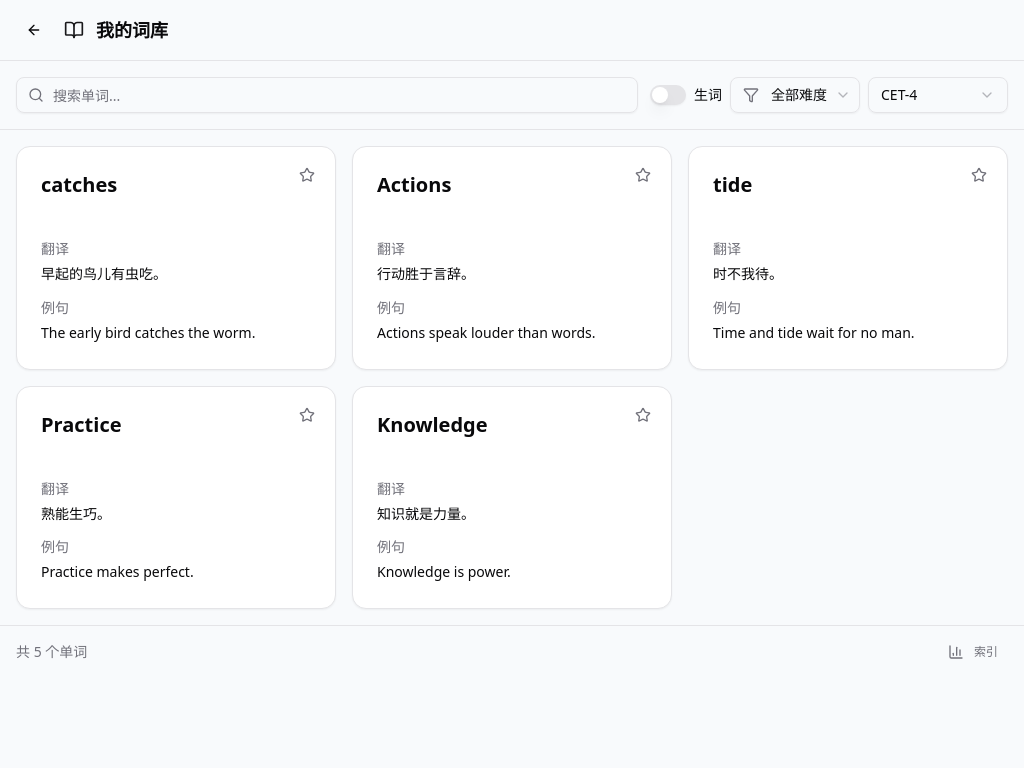
Test: DictionaryBrowser › Level filter › filters by cet4 level
Check: the text "catches" is shown, box [41,171,117,198]
Click the level filter trigger button to open dropdown
Click the dropdown labelled "全部难度": (795, 95) [730,77,860,113]
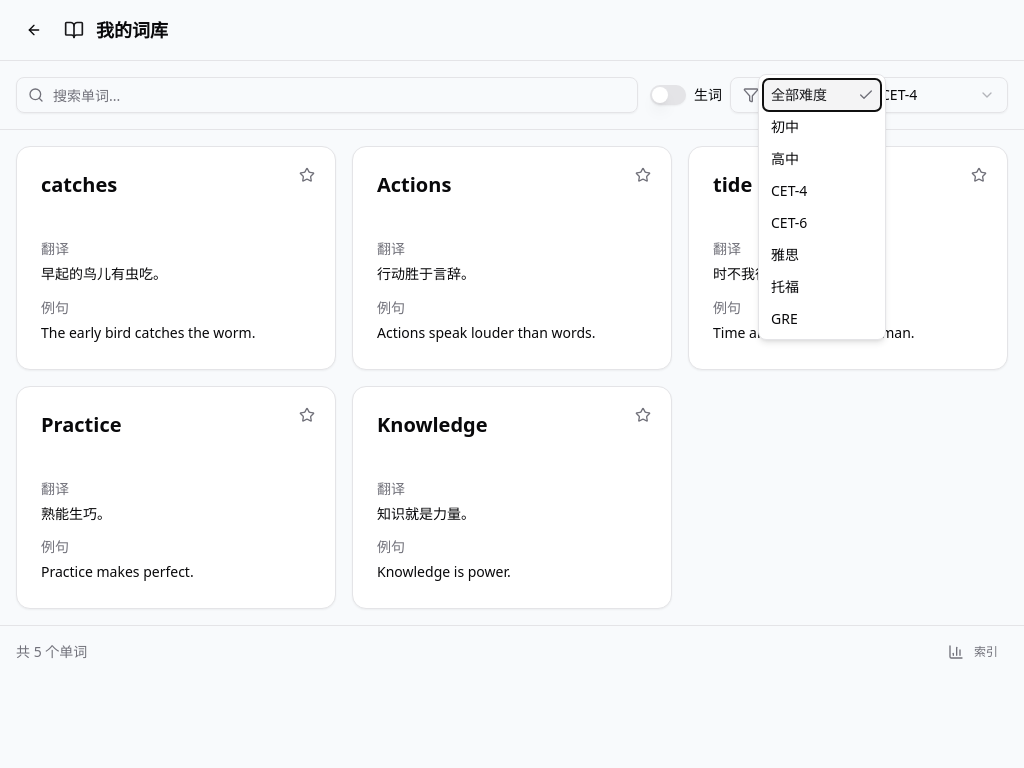
Check: the option "CET-4" is shown
Click CET-4 option
Click the option "CET-4": (789, 190) [771,181,807,200]
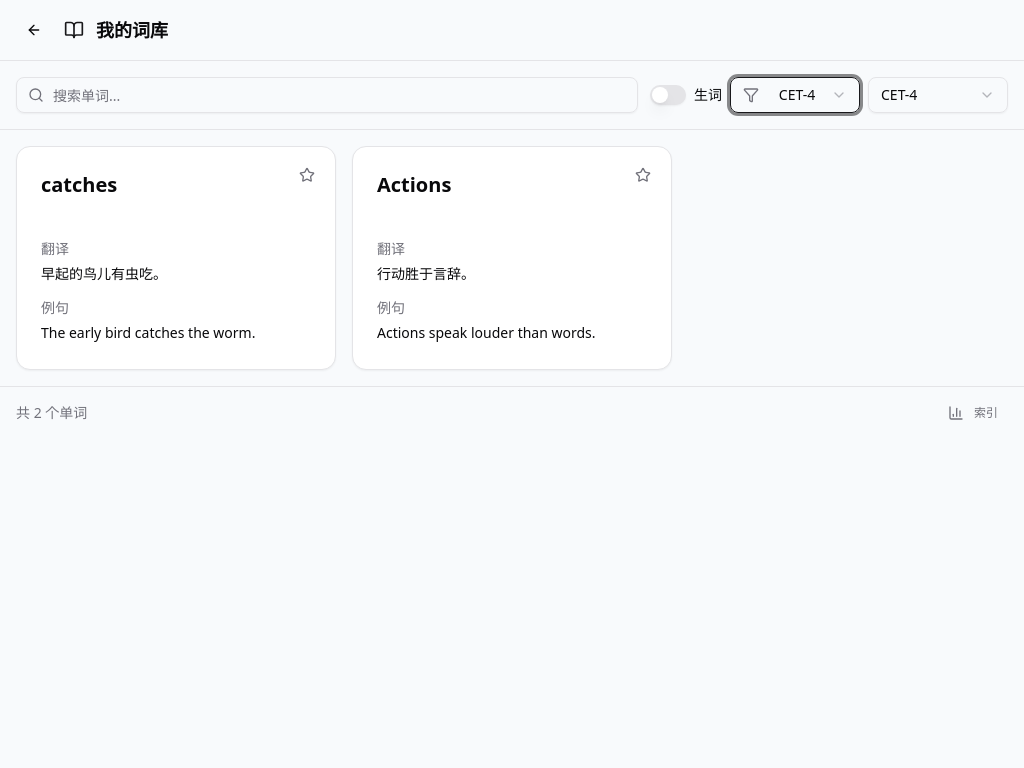
Check: the text "tide" is gone
Check: the text "Practice" is gone
Check: the text "Knowledge" is gone
